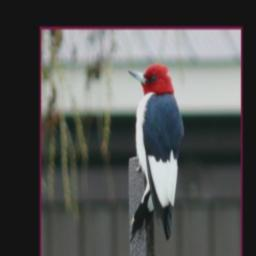Woodpecker: (127, 57, 185, 247)
